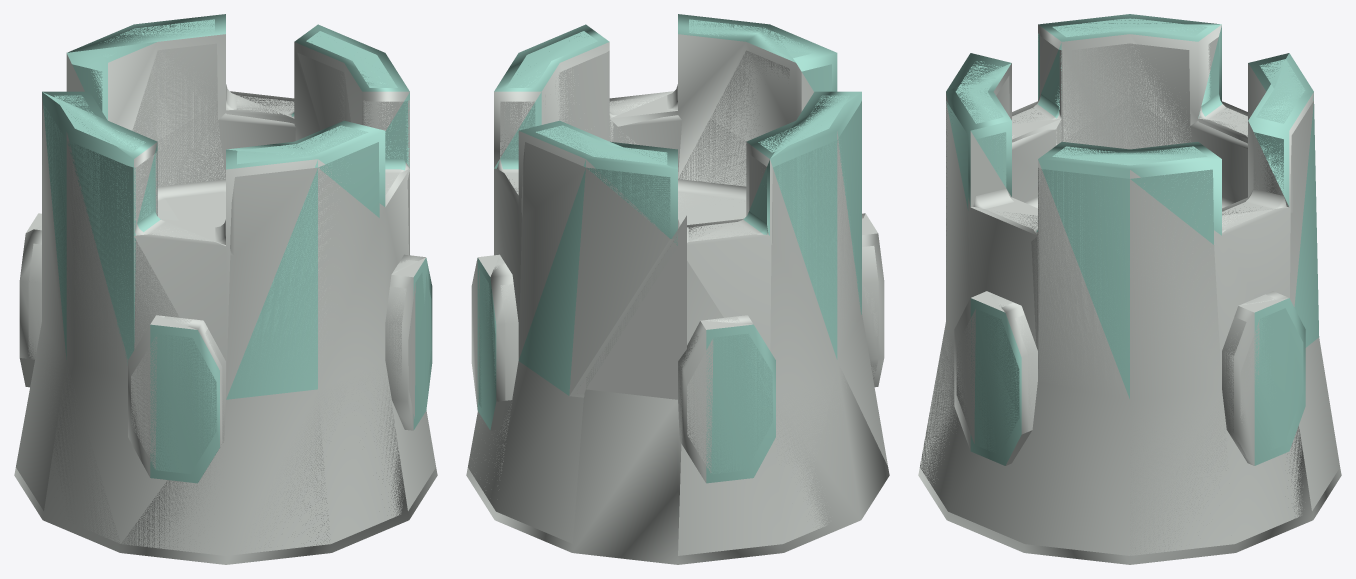
The model's file is tower-defense-kit__tower-round-top-a.glb.
3 views of the same model, side by side, from view 1: azimuth 30°, elevation 25°; view 2: azimuth 150°, elevation 25°; view 3: azimuth 270°, elevation 25° (orthographic).
Parts seen in each view (by area): view 1: L0_metal, L1_metal, L0_accent, L1_accent; view 2: L0_metal, L1_metal, L0_accent, L1_accent; view 3: L0_metal, L1_metal, L0_accent, L1_accent.
Part boxes in pixels (box(x1,y1,x2,y2)): L0_metal: box(16, 43, 435, 555); L1_metal: box(14, 34, 437, 564); L0_accent: box(44, 19, 431, 473); L1_accent: box(42, 14, 432, 483); L0_metal: box(468, 50, 887, 555); L1_metal: box(466, 34, 889, 564); L0_accent: box(479, 19, 861, 473); L1_accent: box(477, 14, 861, 483); L0_metal: box(920, 36, 1339, 555); L1_metal: box(918, 24, 1341, 564); L0_accent: box(946, 18, 1319, 454); L1_accent: box(946, 14, 1313, 465).
Bounding box in the file's own units: 1 × 1 × 1.
